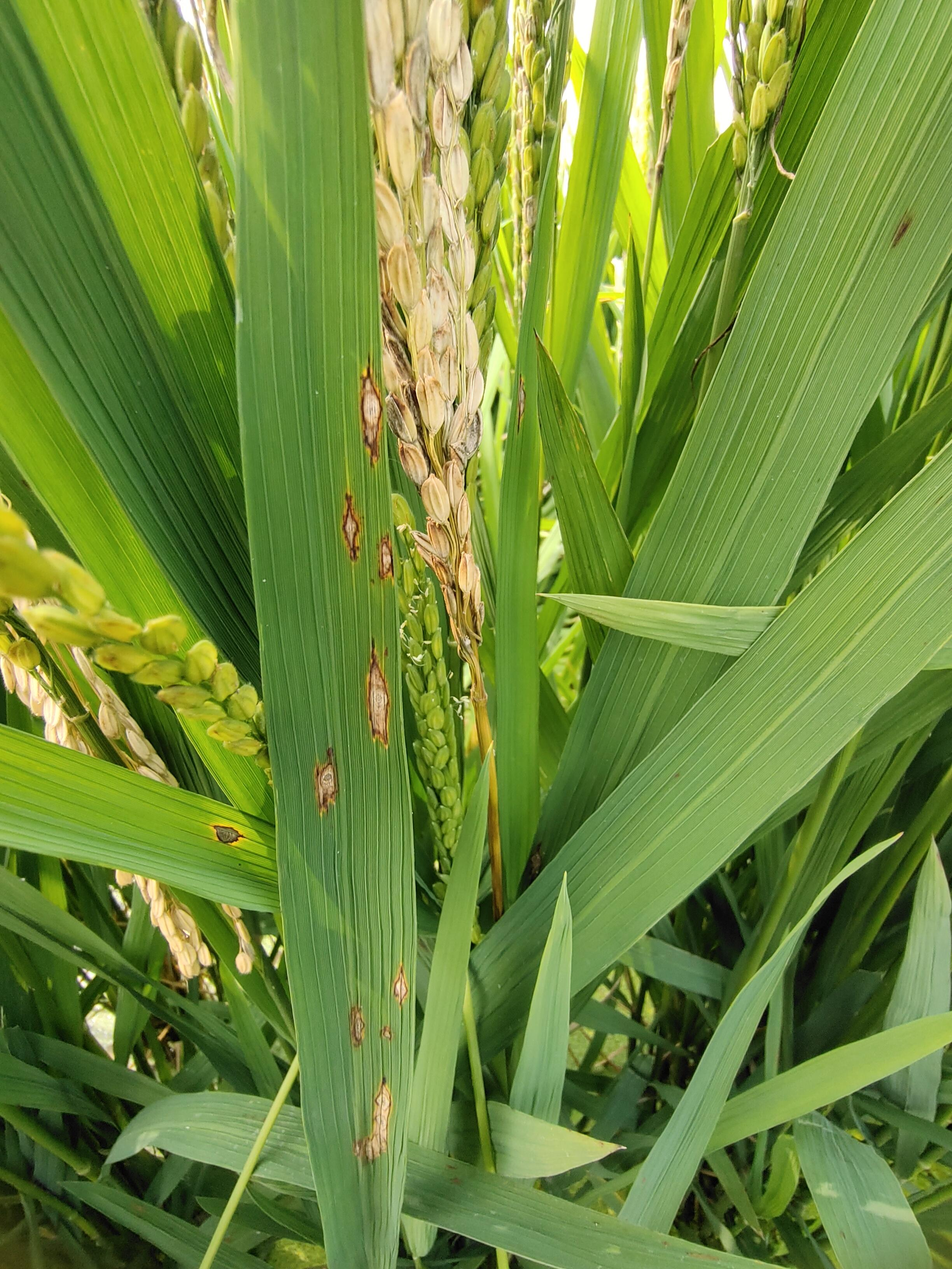LEAF: (236, 0, 415, 1269)
LEAF BLAST: (353, 1078, 392, 1162), (367, 640, 389, 746), (360, 362, 382, 464), (315, 747, 337, 815), (342, 493, 360, 561), (392, 962, 409, 1007), (379, 533, 394, 580), (349, 1005, 365, 1047), (381, 1025, 392, 1040)
